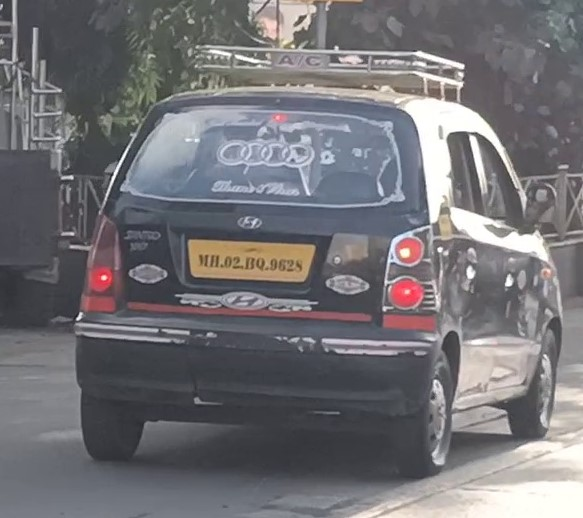MH02BQ9628: (185, 238, 316, 281)
